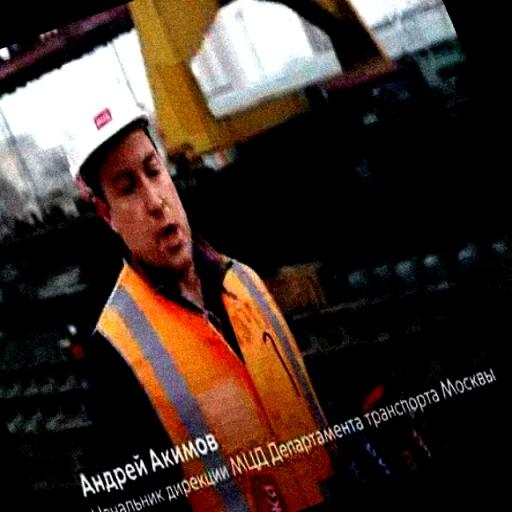Person: (40, 70, 399, 507)
helmet: (67, 84, 162, 186)
none: (92, 146, 170, 210)
vest: (91, 253, 347, 512)
